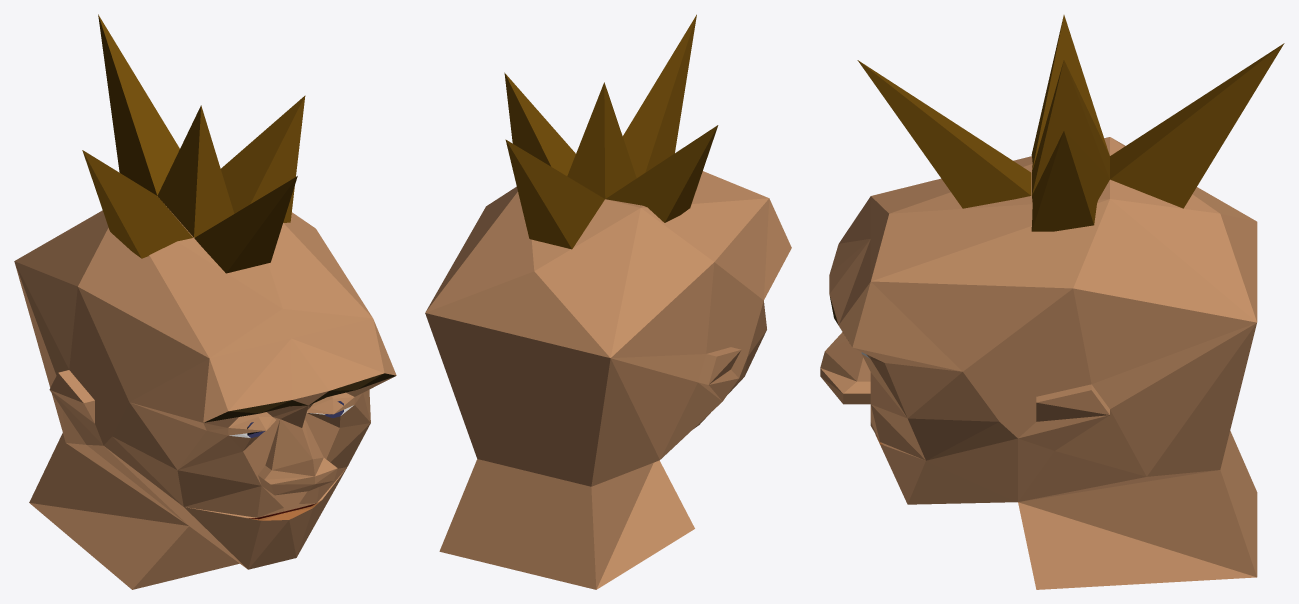
File: model_5_npc_head.obj
The picture shows the model from 3 angles, left to right: view 1: azimuth 30°, elevation 25°; view 2: azimuth 150°, elevation 25°; view 3: azimuth 270°, elevation 25°; orthographic projection. The views are drawn at different scales.
Visible parts, largest first — view 1: 5; view 2: 5; view 3: 5.
Part boxes in pixels (left/top/right/bottom): 5: left=14, top=14, right=396, bottom=589; 5: left=425, top=14, right=791, bottom=589; 5: left=820, top=15, right=1284, bottom=589.
Size of the model in its own units: 70 by 121 by 101.
